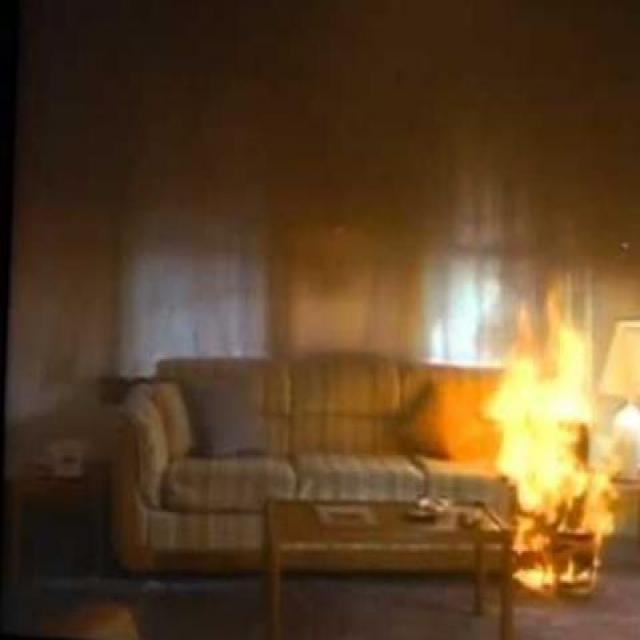fire: (494, 292, 626, 594)
